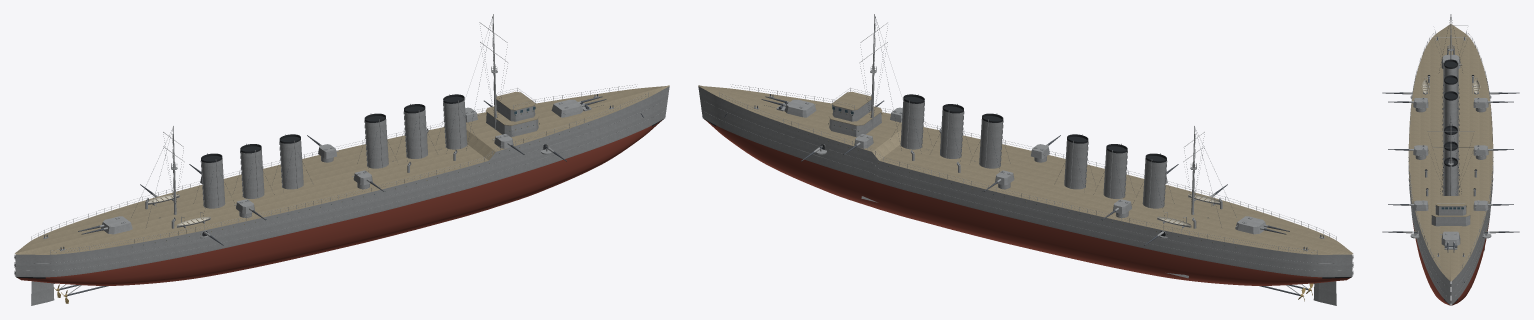
The model's file is edgar_quinet.glb.
3 views of the same model, side by side, from view 1: azimuth 30°, elevation 25°; view 2: azimuth 150°, elevation 25°; view 3: azimuth 270°, elevation 25° (orthographic). The views are drawn at different scales.
Visible parts, largest first — view 1: Edgar Quinet class; view 2: Edgar Quinet class; view 3: Edgar Quinet class.
Boxes of the visible parts, x1,y1,x2,y2 form: Edgar Quinet class: [14, 14, 669, 305]; Edgar Quinet class: [698, 14, 1353, 305]; Edgar Quinet class: [1382, 14, 1519, 305].
Size of the model in its own units: 159 by 42.21 by 34.79.
Materials: 8 (2 with a texture image).
